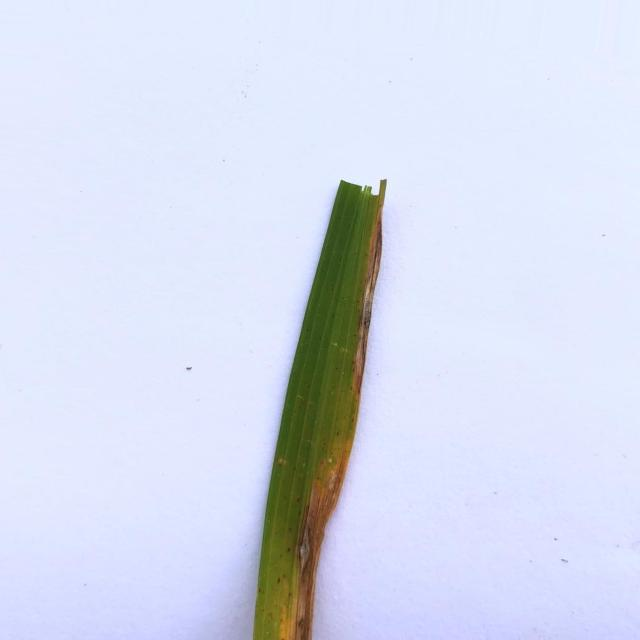Rice Tungro: (253, 180, 386, 639)
